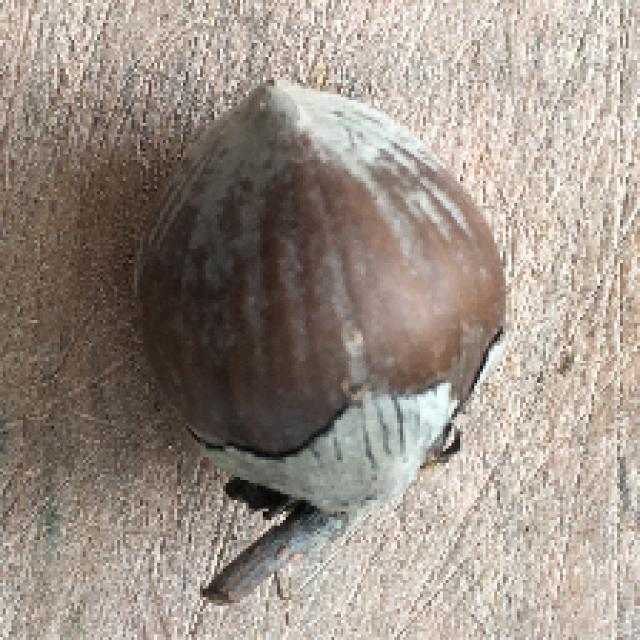DamagedHazelnut: (134, 82, 517, 524)
